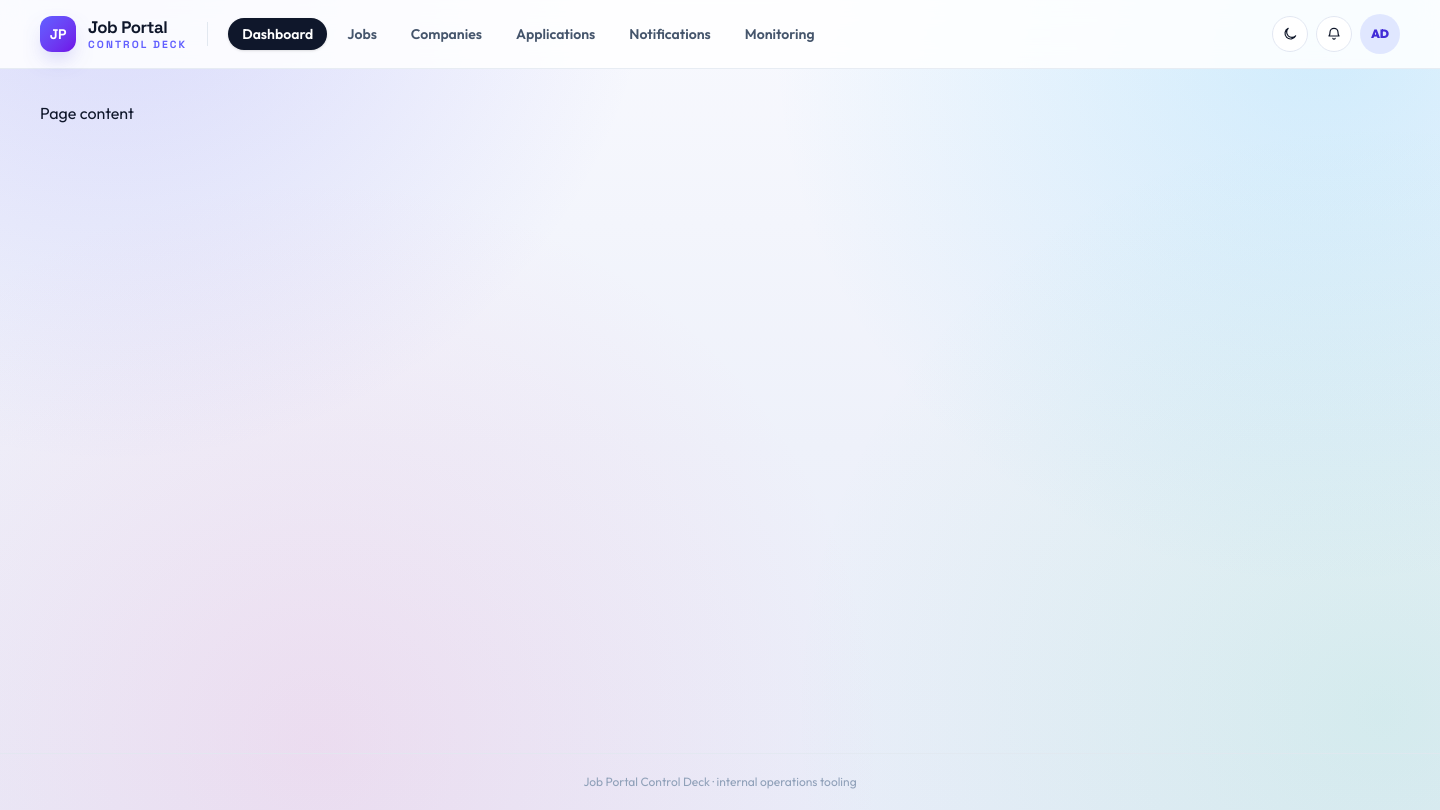
Test: AppLayout › closes the account dropdown on Escape
This screenshot has width=1440, height=810.
Click the button named "Open account menu" at (1380, 34), box [1360,14,1400,54]
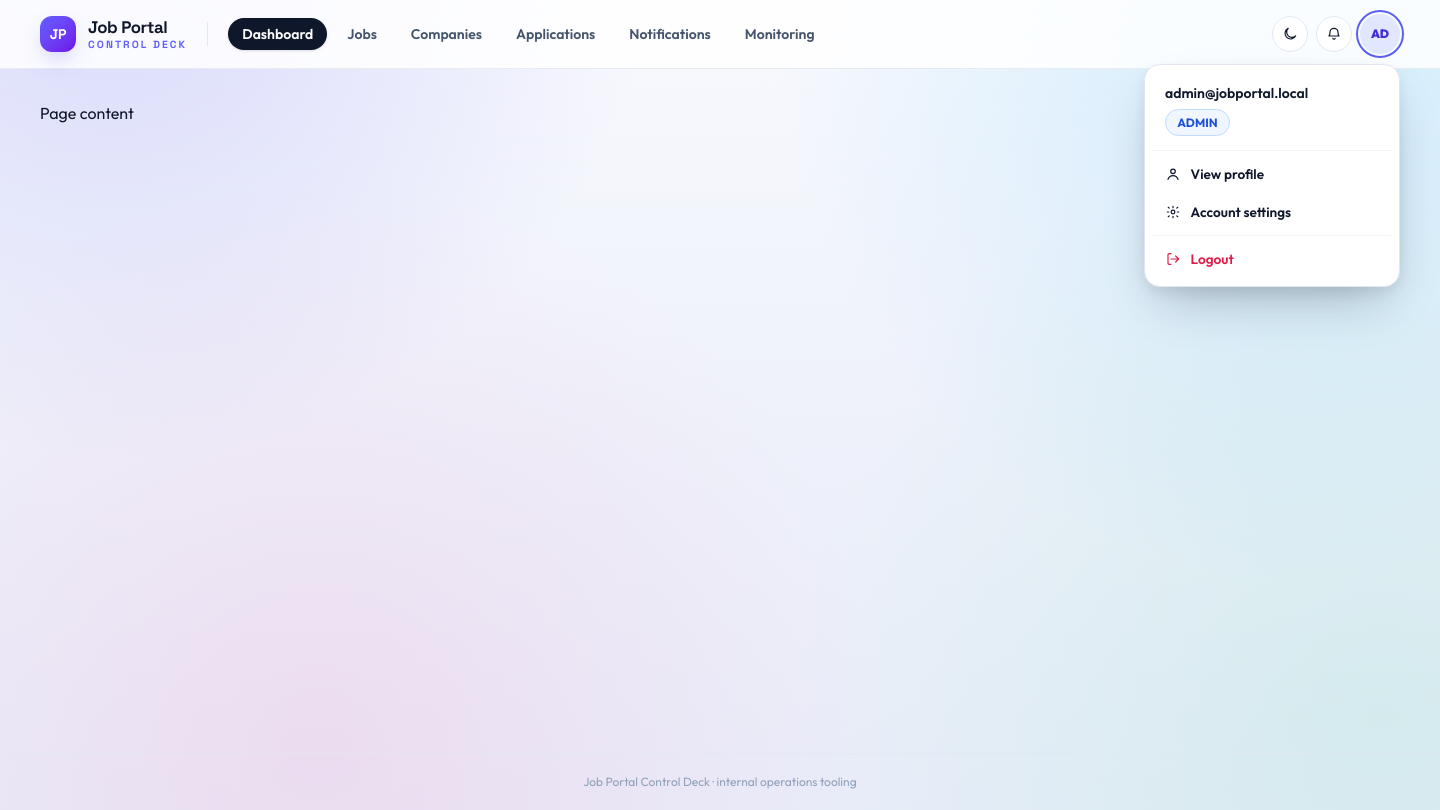
Expected: the link "View profile" is shown, [1165,165,1264,183]
Press Escape
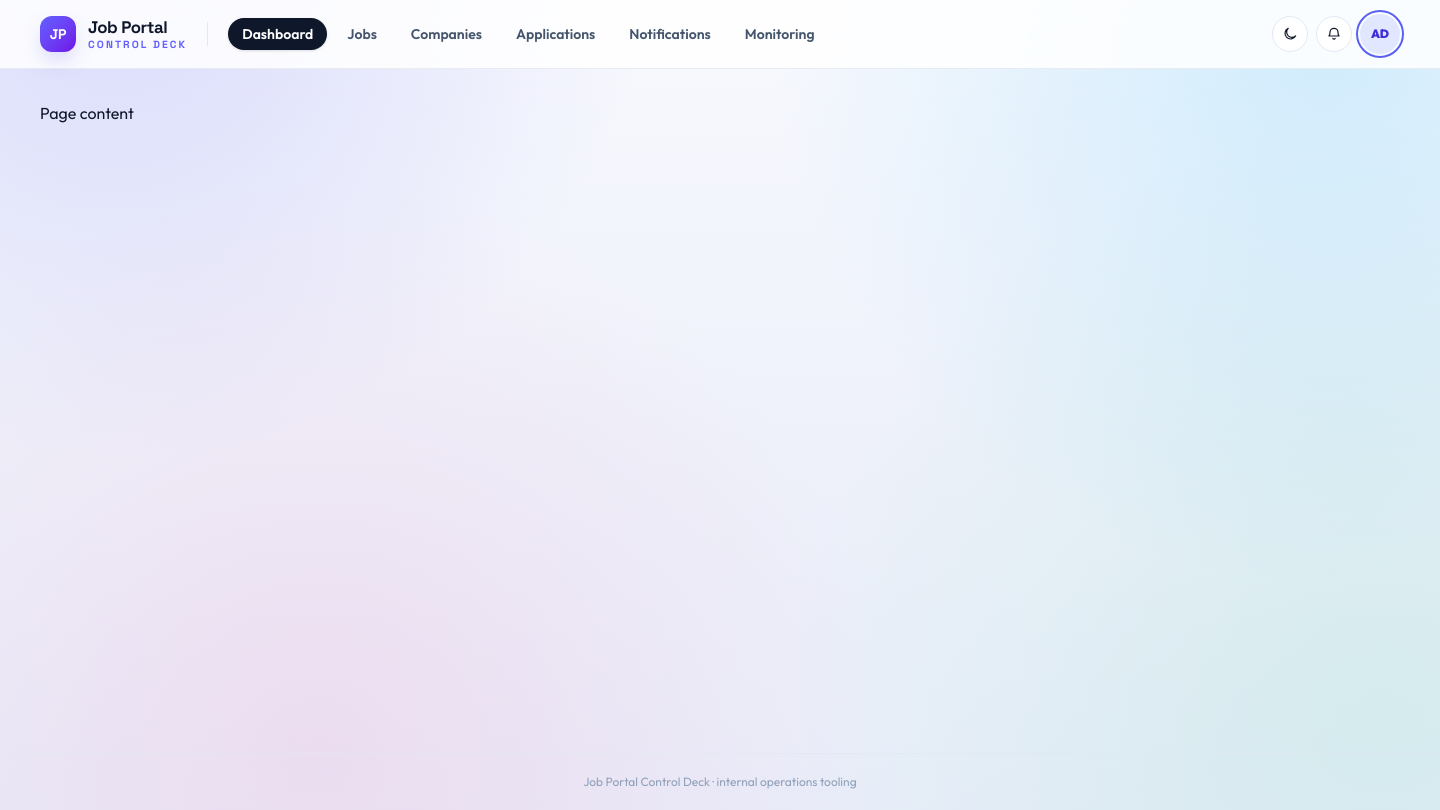
Expected: the link "View profile" is gone
